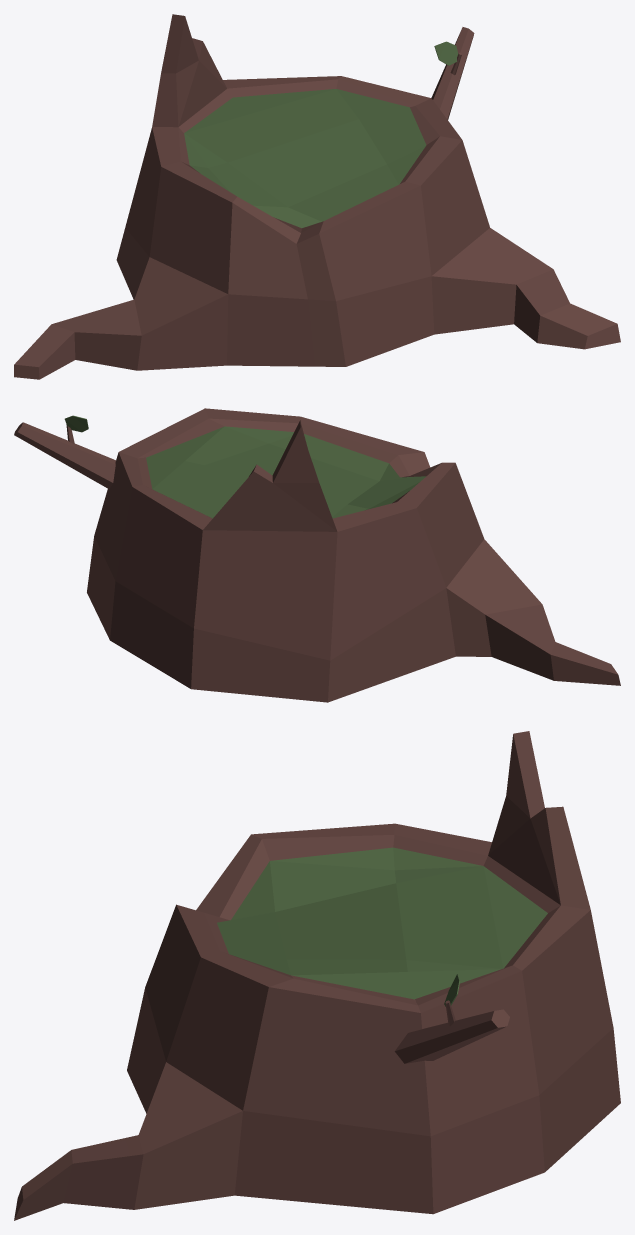
The model's file is env_stump.glb.
The picture shows the model from 3 angles, top to bottom: view 1: azimuth 30°, elevation 25°; view 2: azimuth 150°, elevation 25°; view 3: azimuth 270°, elevation 25°; orthographic projection. The views are drawn at different scales.
Parts seen in each view (by area): view 1: env_stump; view 2: env_stump; view 3: env_stump.
Part boxes in pixels (left/top/right/bottom): env_stump: left=14, top=14, right=620, bottom=379; env_stump: left=14, top=408, right=620, bottom=702; env_stump: left=14, top=731, right=620, bottom=1220.
Size of the model in its own units: 1.18 by 0.5395 by 0.8952.
1 material, 1 textured.
